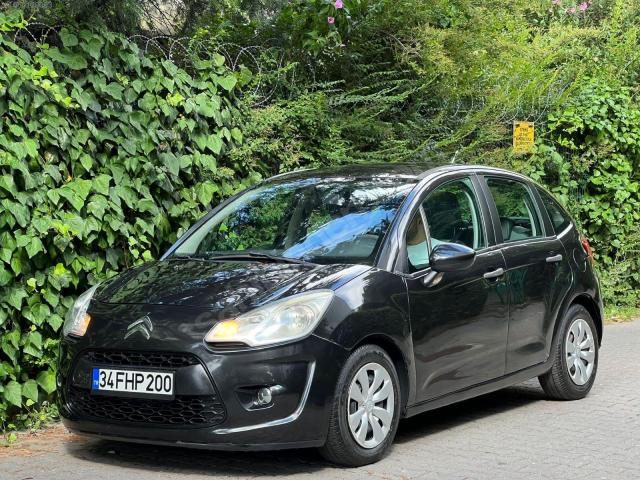plaka: (92, 367, 173, 396)
